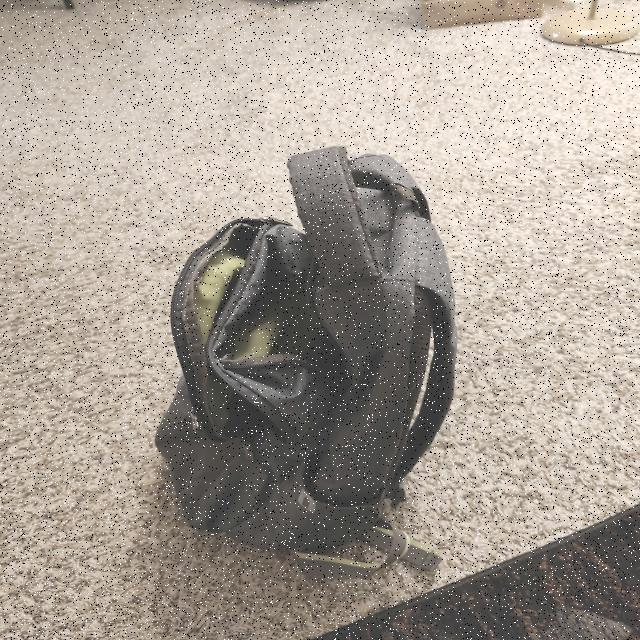bag: (168, 160, 438, 560)
